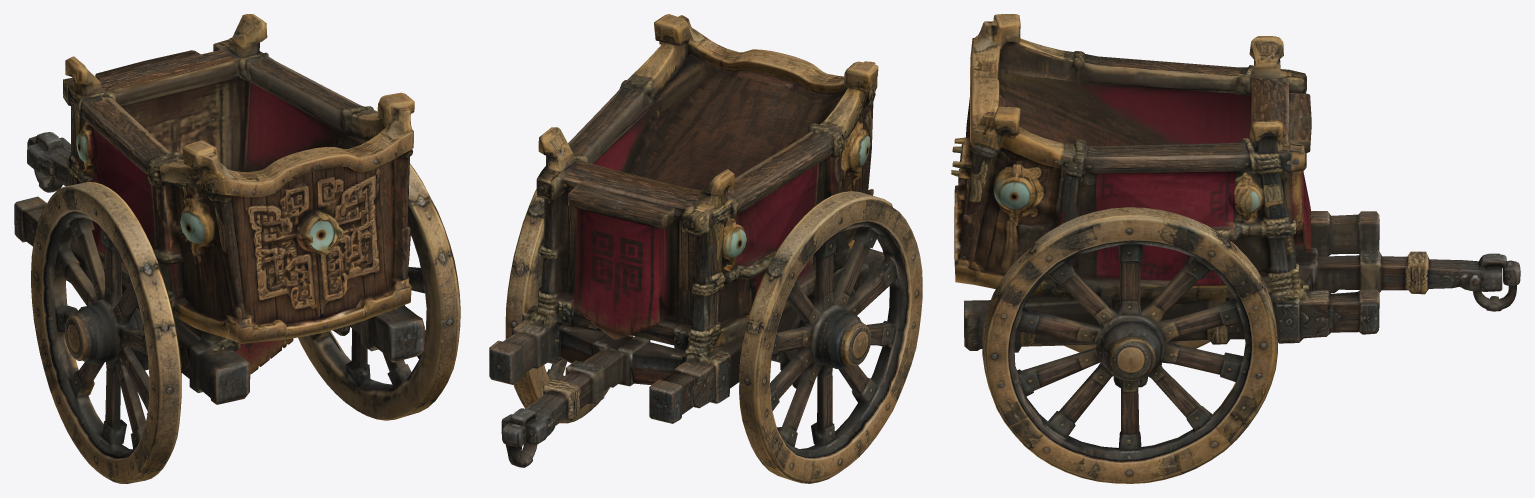
Rendered from treasure-chest.glb.
3 renders of one model, left to right at view 1: azimuth 30°, elevation 25°; view 2: azimuth 150°, elevation 25°; view 3: azimuth 270°, elevation 25°, orthographic. The views are drawn at different scales.
Parts seen in each view (by area): view 1: bacbf371_1f30_499b_809e_d63129d54b58; view 2: bacbf371_1f30_499b_809e_d63129d54b58; view 3: bacbf371_1f30_499b_809e_d63129d54b58.
Part boxes in pixels (box(x1,y1,x2,y2)): bacbf371_1f30_499b_809e_d63129d54b58: box(14, 14, 460, 483); bacbf371_1f30_499b_809e_d63129d54b58: box(489, 14, 922, 483); bacbf371_1f30_499b_809e_d63129d54b58: box(951, 14, 1520, 483).
Size of the model in its own units: 0.6411 by 0.686 by 0.9995.
Materials: 1 (1 with a texture image).
